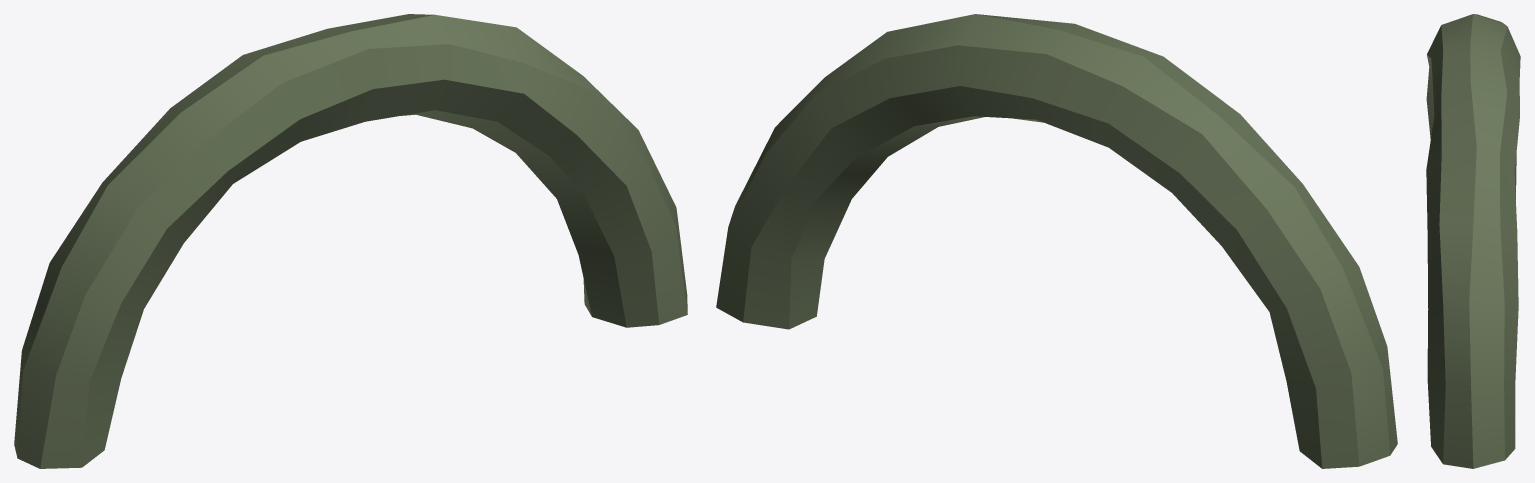
The model's file is arch_01.glb.
3 renders of one model, left to right at view 1: azimuth 30°, elevation 25°; view 2: azimuth 150°, elevation 25°; view 3: azimuth 270°, elevation 25°, orthographic. The views are drawn at different scales.
Parts seen in each view (by area): view 1: arch_01; view 2: arch_01; view 3: arch_01.
Boxes of the visible parts, box(x1,y1,x2,y2) form: arch_01: box(14, 14, 687, 468); arch_01: box(716, 14, 1397, 468); arch_01: box(1426, 14, 1520, 468).
Bounding box in the file's own units: 9.6 × 4.79 × 1.41.
